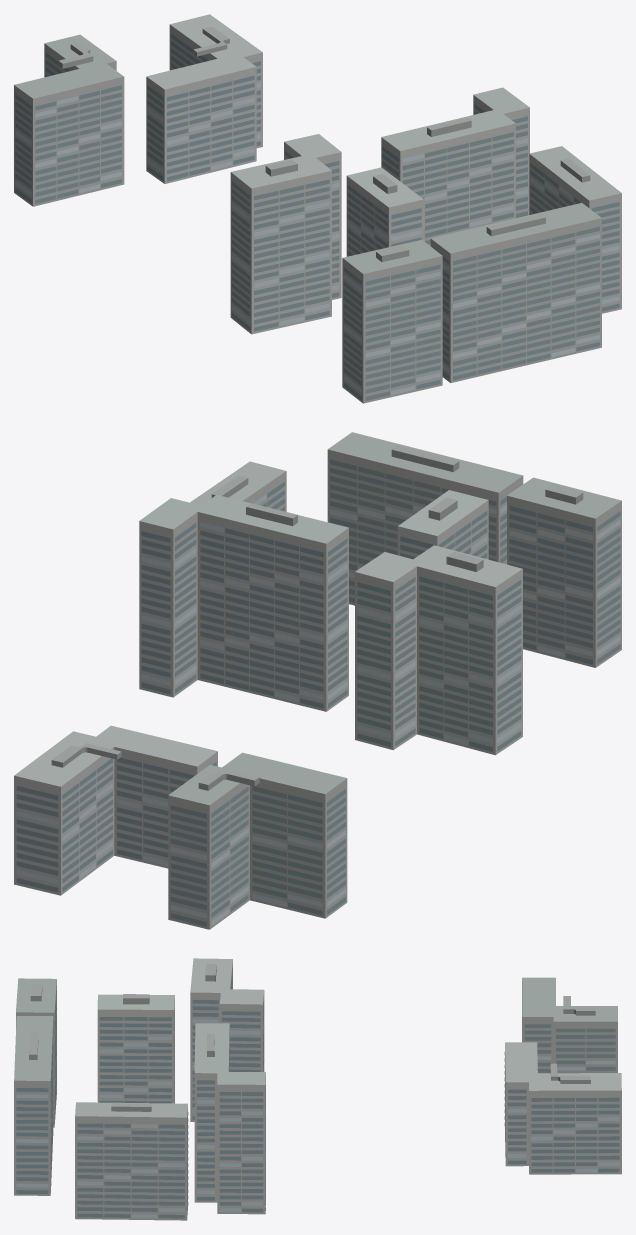
The model's file is apt-a13785201.glb.
3 renders of one model, top to bottom at view 1: azimuth 30°, elevation 25°; view 2: azimuth 150°, elevation 25°; view 3: azimuth 270°, elevation 25°, orthographic. The views are drawn at different scales.
Parts seen in each view (by area): view 1: apt-a13785201; view 2: apt-a13785201; view 3: apt-a13785201.
Part boxes in pixels (left/top/right/bottom): apt-a13785201: left=14, top=14, right=621, bottom=403; apt-a13785201: left=14, top=432, right=621, bottom=929; apt-a13785201: left=14, top=958, right=621, bottom=1220.
Bounding box in the file's own units: 126 × 54 × 220.
